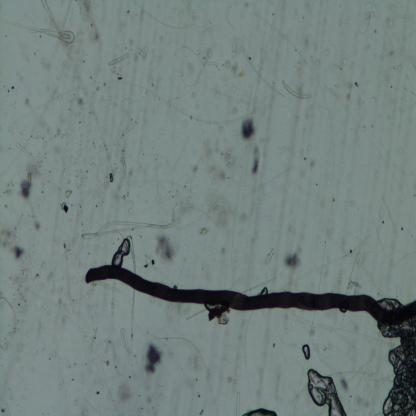Air bubble: (304, 369, 347, 415), (112, 240, 129, 267), (242, 406, 278, 416), (300, 344, 311, 358)
Background material: (128, 310, 213, 375), (374, 322, 416, 414), (31, 155, 100, 204), (199, 134, 237, 182), (345, 223, 370, 293), (84, 327, 118, 374), (75, 0, 104, 48), (202, 185, 233, 227), (14, 162, 38, 204), (0, 218, 24, 258), (342, 78, 374, 105), (166, 183, 190, 217), (151, 233, 179, 262), (280, 244, 303, 276), (144, 342, 165, 375), (206, 304, 234, 328), (109, 60, 134, 85), (126, 34, 148, 57), (240, 114, 256, 144), (32, 50, 56, 69), (252, 140, 263, 177), (116, 381, 134, 402), (58, 189, 72, 213), (223, 58, 239, 75), (196, 224, 209, 238), (339, 377, 348, 392), (24, 91, 30, 110), (34, 219, 41, 229)
Glass filter fibre: (250, 11, 336, 291), (230, 2, 282, 272), (41, 0, 106, 148), (80, 211, 178, 242), (0, 16, 75, 43), (241, 52, 284, 99), (18, 263, 46, 309), (0, 295, 19, 347), (56, 0, 72, 52), (280, 78, 313, 101), (112, 148, 127, 195), (382, 196, 398, 238), (63, 247, 72, 301), (116, 119, 136, 139), (392, 44, 408, 69), (15, 143, 39, 159), (204, 40, 218, 67), (119, 325, 131, 354), (108, 52, 129, 66), (233, 389, 243, 416), (182, 0, 196, 18), (326, 88, 340, 99), (266, 248, 275, 264)
Microfibre: (85, 265, 416, 326)
